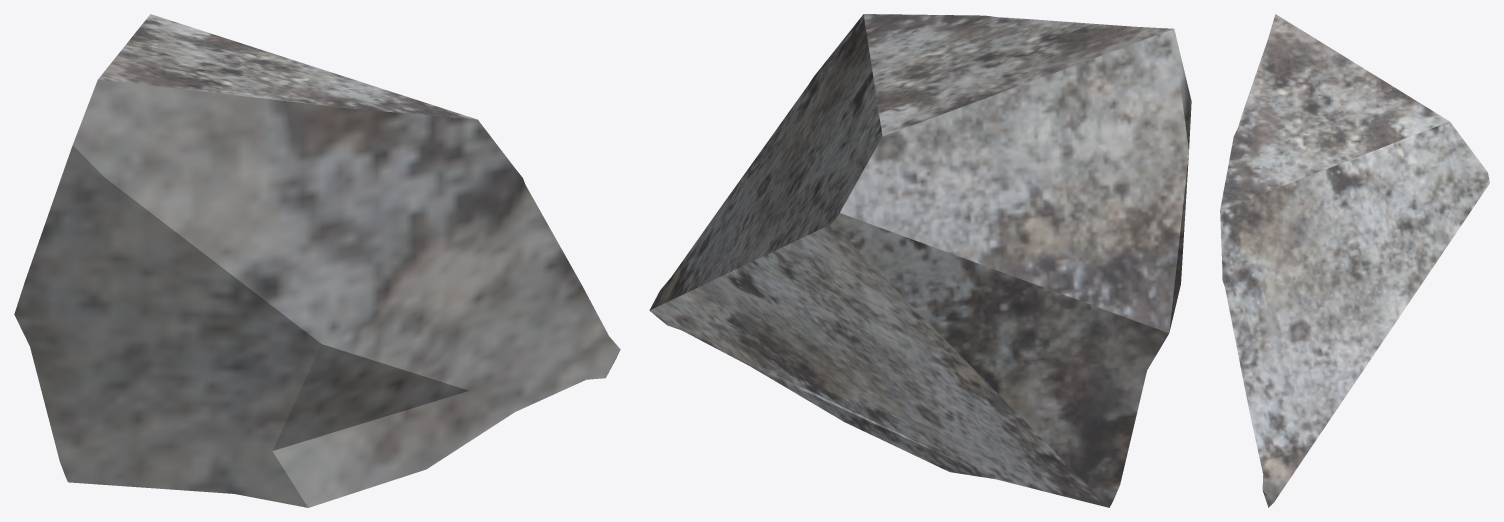
File: Asteroid_Large_001_02_002_03_019.fbx
The picture shows the model from 3 angles, left to right: view 1: azimuth 30°, elevation 25°; view 2: azimuth 150°, elevation 25°; view 3: azimuth 270°, elevation 25°; orthographic projection. The views are drawn at different scales.
Visible parts, largest first — view 1: Asteroid_Large_001_02_002_03_019; view 2: Asteroid_Large_001_02_002_03_019; view 3: Asteroid_Large_001_02_002_03_019.
Boxes of the visible parts, box(x1,y1,x2,y2) form: Asteroid_Large_001_02_002_03_019: box(14, 14, 620, 507); Asteroid_Large_001_02_002_03_019: box(649, 14, 1191, 507); Asteroid_Large_001_02_002_03_019: box(1220, 14, 1489, 507).
Bounding box in the file's own units: 9.23 × 7.67 × 5.2.
